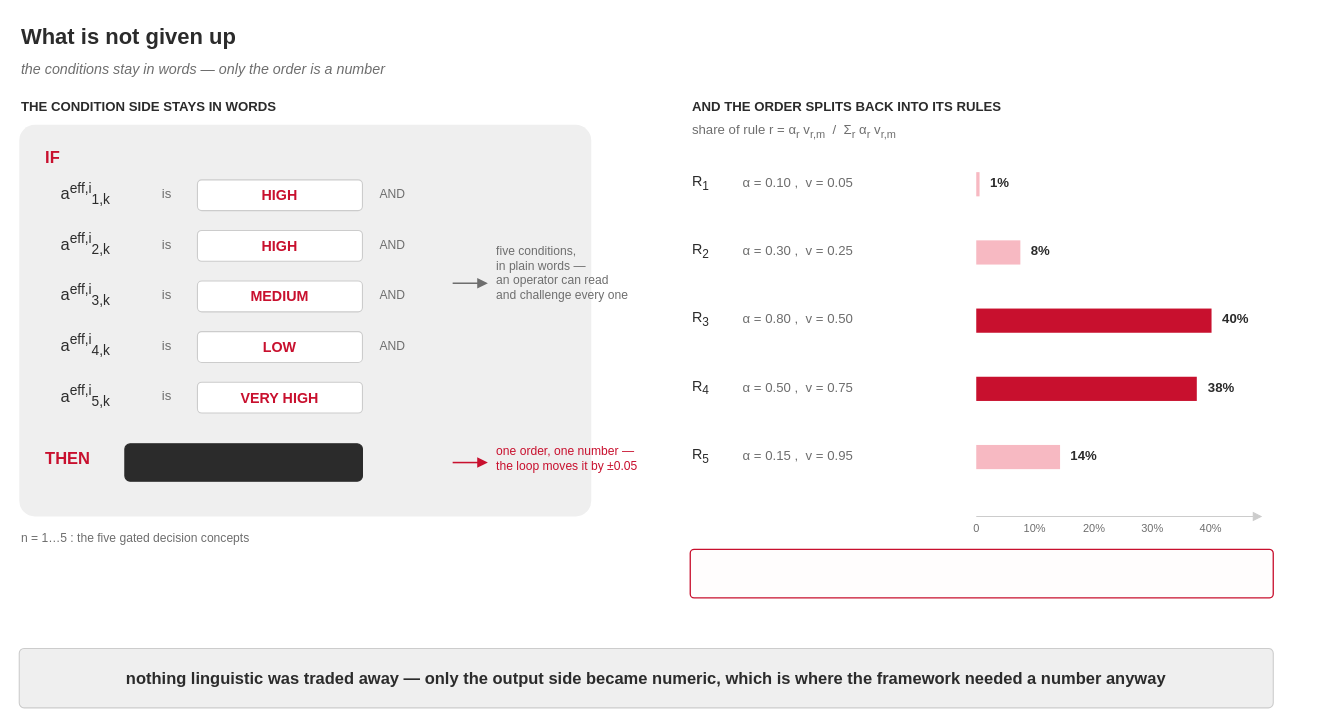
Some shapes in this 1317 by 727 pixel diagram are drawn without their labels. The shapes that lost their labels are listed below. From the top down, each one's centre as x and y in pixels, then its label:
pixel 243 462: U i DSS,k = 0.75
pixel 981 573: R 3 and R 4 made 78 % of this order — u = 0.54
